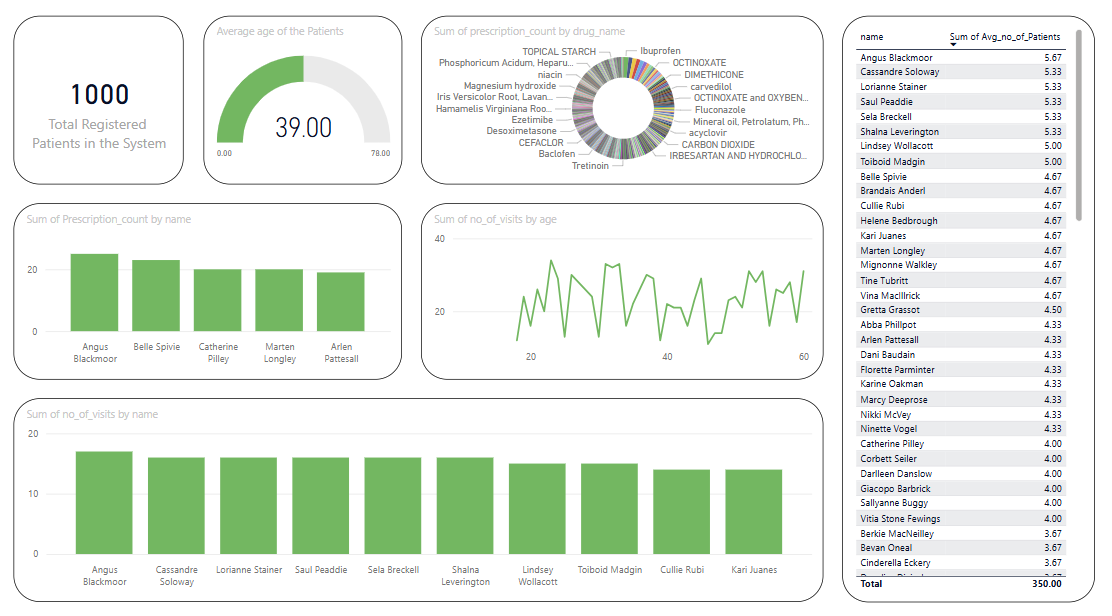

What the dashboard file says about the page in this screenshot:
{"tool":"powerbi","page":{"name":"Page 1","canvas":[1280,720],"ordinal":0},"visuals":[{"type":"card","fields":{"Values":["Query1.Total_Regd_Patients"]},"box":[20,21.4,194.3,192.9],"z":0},{"type":"gauge","fields":{"Y":["Query2.Average_age"]},"box":[237.1,21.4,227.1,192.9],"z":1000},{"type":"columnChart","fields":{"Category":["Query3.name"],"Y":["Query3.no_of_visits"]},"box":[20,458.6,925.7,232.9],"z":2000},{"type":"tableEx","fields":{"Values":["Query4.name","Query4.Avg_no_of_Patients"]},"box":[967.1,21.4,288.6,670],"z":3000},{"type":"donutChart","fields":{"Y":["Query5.prescription_count"],"Category":["Query5.drug_name"]},"box":[485.7,21.4,460,192.9],"z":4000},{"type":"columnChart","fields":{"Category":["Query6.name"],"Y":["Query6.Prescription_count"]},"box":[20,235.7,444.3,201.4],"z":5000},{"type":"lineChart","fields":{"Category":["Query7.age"],"Y":["Query7.no_of_visits"]},"box":[485.7,235.7,460,201.4],"z":5001}]}

Visuals, with their boxes in screenshot pixels (x1, y1, x2, y2), scaled from the page's 1280x720 canvas onto the 1112x616 screenshot:
card - Query1.Total_Regd_Patients: box(17, 18, 186, 183)
gauge - Query2.Average_age: box(206, 18, 403, 183)
columnChart - Query3.name x Query3.no_of_visits: box(17, 392, 822, 592)
tableEx - Query4.name x Query4.Avg_no_of_Patients: box(840, 18, 1091, 592)
donutChart - Query5.prescription_count x Query5.drug_name: box(422, 18, 822, 183)
columnChart - Query6.name x Query6.Prescription_count: box(17, 202, 403, 374)
lineChart - Query7.age x Query7.no_of_visits: box(422, 202, 822, 374)
